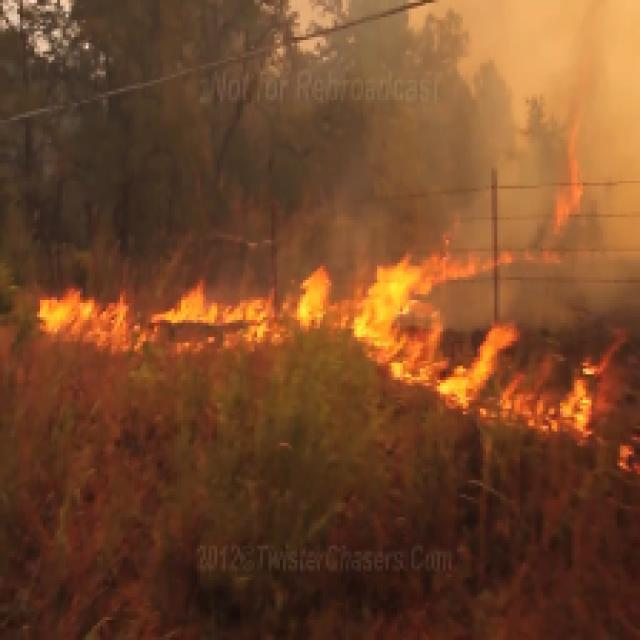Fire: (0, 248, 640, 463), (528, 106, 626, 280)
Smoke: (265, 0, 528, 254)
